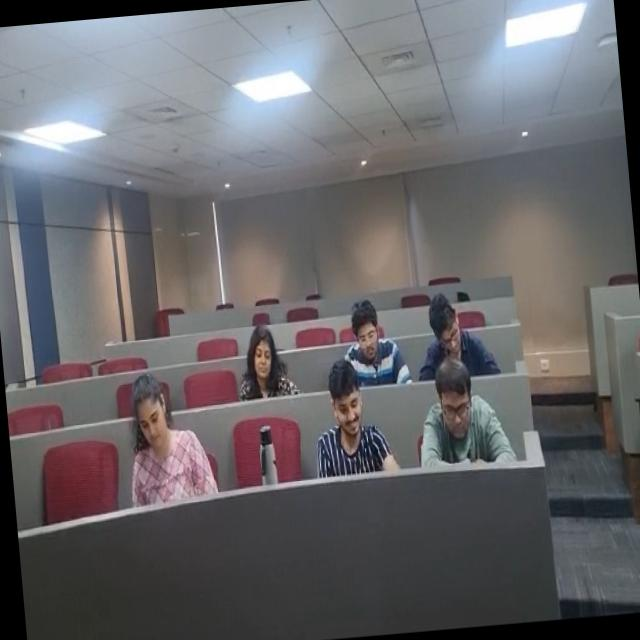cheating: (301, 368, 398, 486)
non-cheating: (107, 343, 217, 520), (402, 376, 496, 486), (406, 276, 491, 374), (333, 286, 402, 391), (232, 316, 306, 402)
